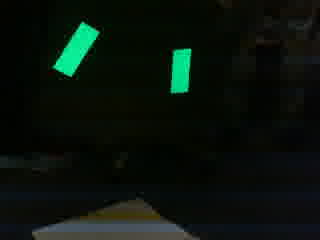target: (50, 19, 199, 95)
